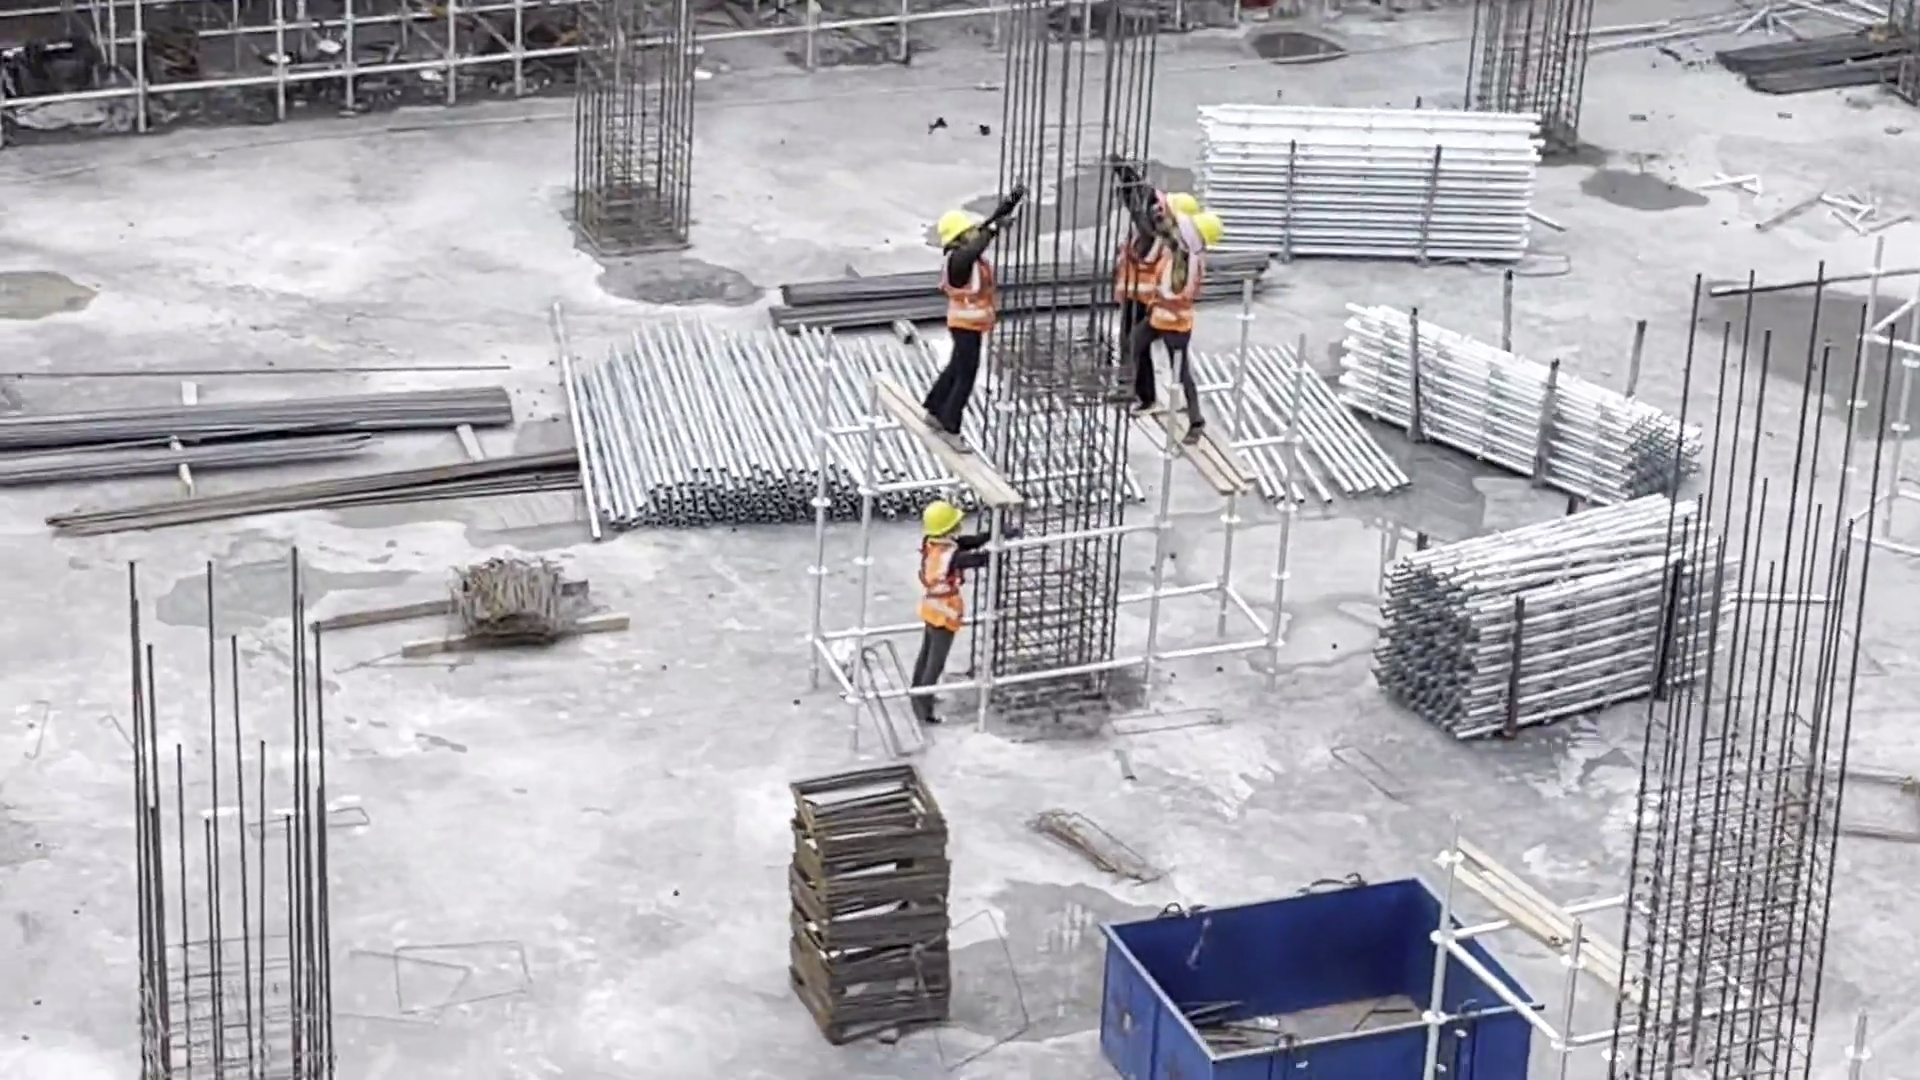helmet: (932, 213, 980, 248), (921, 502, 964, 538), (1155, 189, 1191, 228), (1193, 211, 1223, 249)
hopper: (1098, 872, 1543, 1079)
person: (926, 197, 1007, 453), (1143, 201, 1207, 421), (904, 500, 967, 697), (1115, 178, 1170, 346)
rebar: (55, 442, 597, 539), (777, 250, 1280, 337), (1, 413, 380, 494), (1, 382, 521, 433), (1712, 16, 1920, 95)
scaffold: (1359, 497, 1756, 742), (1314, 282, 1710, 506), (573, 304, 984, 511), (1197, 85, 1552, 272)
vest: (917, 542, 966, 630), (947, 248, 993, 334), (1149, 251, 1199, 327), (1123, 235, 1166, 297)
